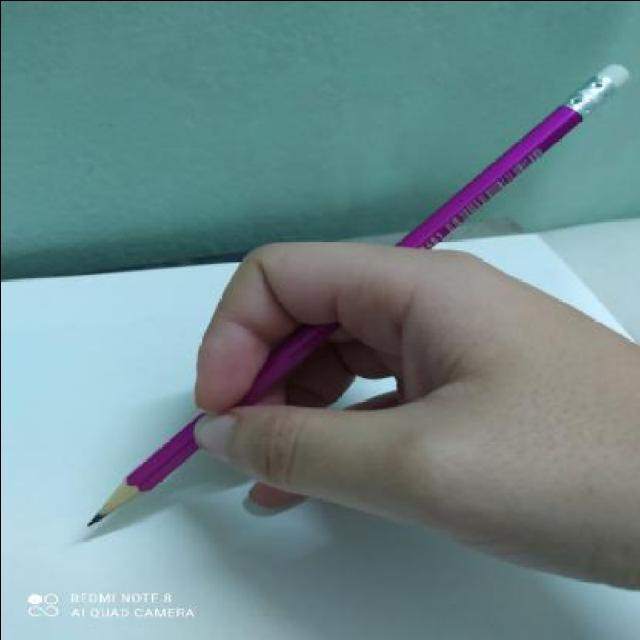pencil: (76, 464, 156, 536)
